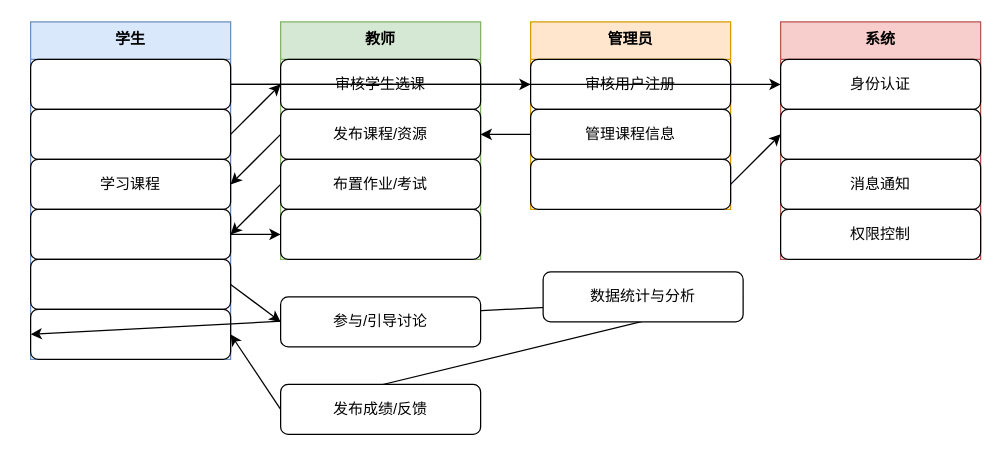
Some shapes in this 1003 by 456 pixel diagram are drawn without their labels. The shapes that lost their labels are listed below. From the top down, each one's centre as x and y in pixels, then its label:
At [130,83]: "注册/登录".
At [130,133]: "选课".
At [880,133]: "数据存储".
At [630,183]: "系统维护".
At [130,233]: "提交作业/考试".
At [380,233]: "批改作业/考试".
At [130,283]: "参与讨论".
At [130,333]: "查看成绩/反馈".
